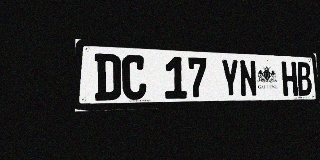1: (164, 56, 187, 99)
7: (187, 57, 208, 98)
B: (296, 62, 312, 96)
C: (122, 54, 147, 100)
D: (94, 53, 121, 101)
H: (281, 61, 298, 96)
N: (239, 59, 258, 97)
Y: (220, 59, 240, 98)
